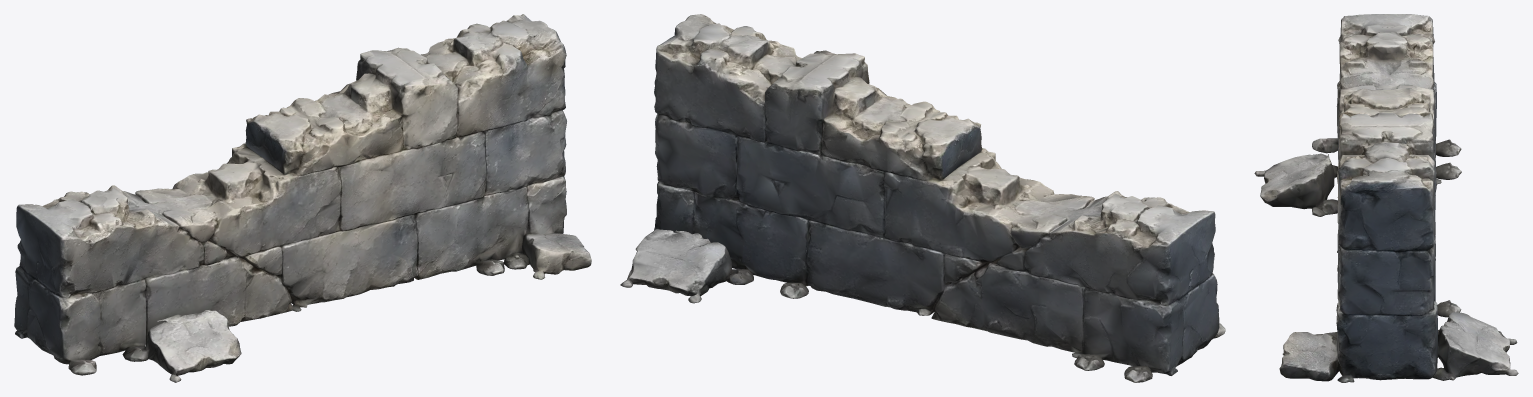
File: muro.glb
The picture shows the model from 3 angles, left to right: view 1: azimuth 30°, elevation 25°; view 2: azimuth 150°, elevation 25°; view 3: azimuth 270°, elevation 25°; orthographic projection. The views are drawn at different scales.
Parts seen in each view (by area): view 1: tripo_node_d8573c16-1ce3-4b72-9572-8e86eb280ddb; view 2: tripo_node_d8573c16-1ce3-4b72-9572-8e86eb280ddb; view 3: tripo_node_d8573c16-1ce3-4b72-9572-8e86eb280ddb.
Boxes of the visible parts, box(x1,y1,x2,y2) form: tripo_node_d8573c16-1ce3-4b72-9572-8e86eb280ddb: box(14, 14, 591, 382); tripo_node_d8573c16-1ce3-4b72-9572-8e86eb280ddb: box(620, 14, 1225, 382); tripo_node_d8573c16-1ce3-4b72-9572-8e86eb280ddb: box(1254, 14, 1518, 382).
Size of the model in its own units: 0.9997 by 0.3839 by 0.4589.
1 material, 1 textured.
